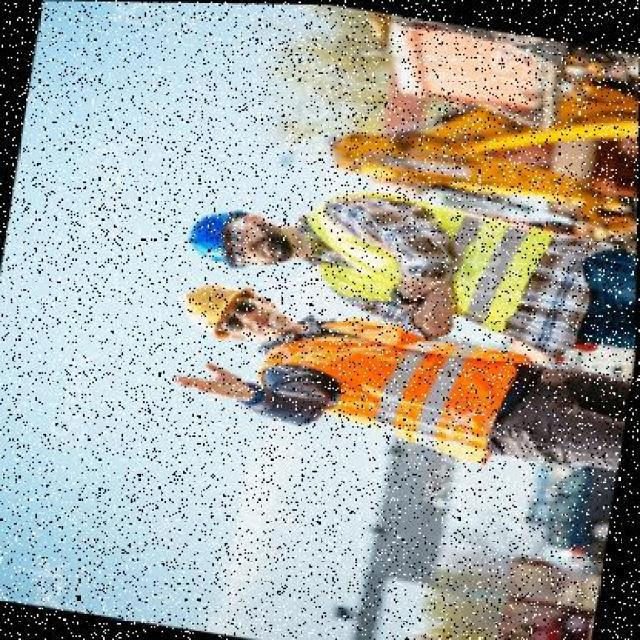helmet: (182, 198, 243, 264), (178, 280, 246, 333)
vest: (265, 306, 527, 443), (311, 188, 549, 323)
